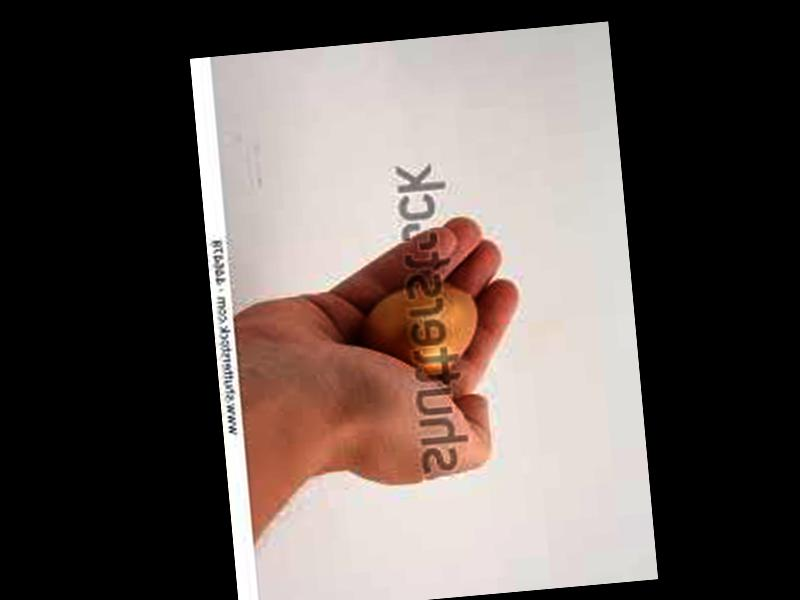Eggs: (360, 280, 481, 378)
